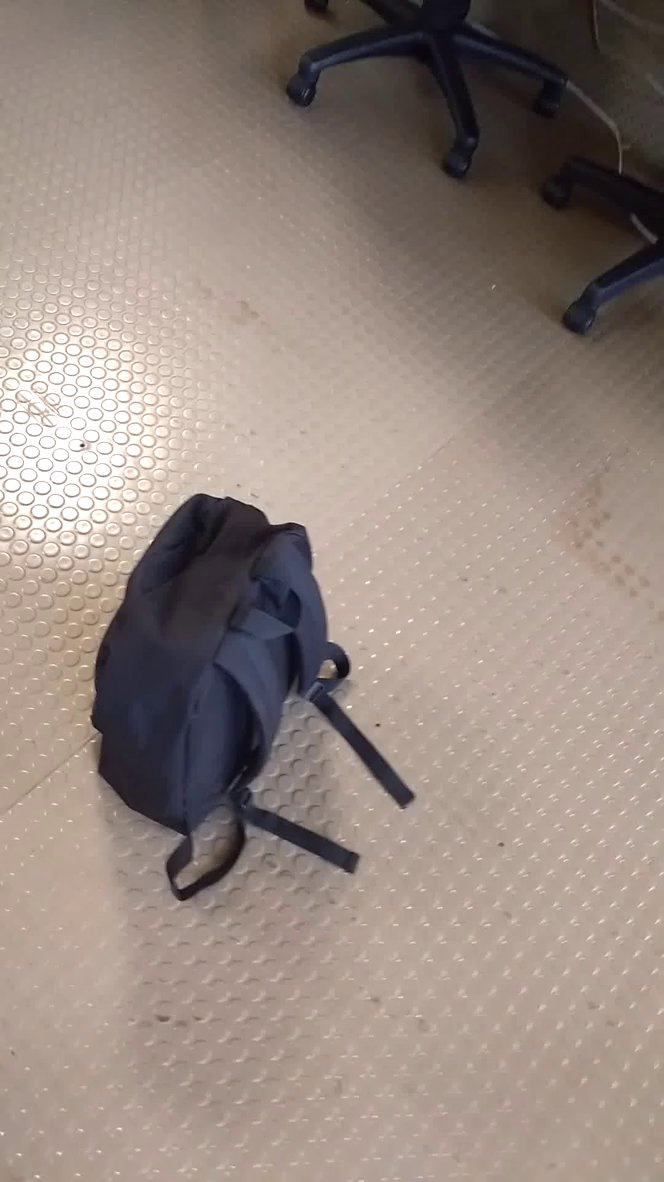bag: (87, 475, 429, 905)
